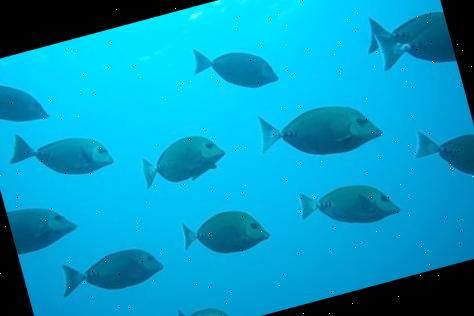fish: (253, 84, 384, 172), (3, 110, 115, 191), (295, 170, 400, 240), (54, 240, 168, 304), (188, 30, 279, 103), (178, 202, 272, 266), (136, 128, 229, 192), (374, 17, 456, 81), (408, 115, 474, 193), (357, 0, 448, 54), (5, 194, 80, 256), (0, 68, 49, 135), (173, 296, 229, 316)
